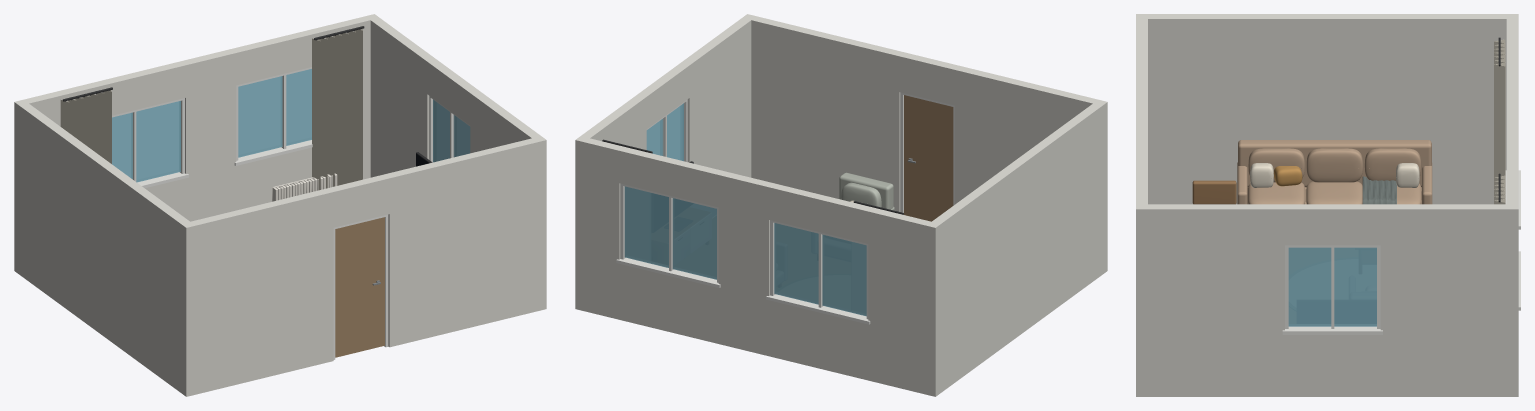
Rendered from oursv11b.glb.
3 renders of one model, left to right at view 1: azimuth 30°, elevation 25°; view 2: azimuth 150°, elevation 25°; view 3: azimuth 270°, elevation 25°, orthographic. The views are drawn at different scales.
Visible parts, largest first — view 1: wall|scenesmith_007__R00|0, wall|scenesmith_007__R00|2, wall|scenesmith_007__R00|1, wall|scenesmith_007__R00|3, Gathered curtain, wall|scenesmith_007__R00|1 Window 0 | glazing, wall|scenesmith_007__R00|0 Door 0 | wood leaf, wall|scenesmith_007__R00|1 Window 0 | jamb, wall|scenesmith_007__R00|3 Window 0 | glazing, wall|scenesmith_007__R00|0 Door 0 | jamb, Door panel, wall|scenesmith_007__R00|3 Window 0 | jamb; view 2: wall|scenesmith_007__R00|1, wall|scenesmith_007__R00|0, wall|scenesmith_007__R00|2, wall|scenesmith_007__R00|3, wall|scenesmith_007__R00|1 Window 0 | glazing, wall|scenesmith_007__R00|0 Door 0 | wood leaf, wall|scenesmith_007__R00|1 Window 0 | jamb, Back upholstered shell.001, wall|scenesmith_007__R00|3 Window 0 | glazing, wall|scenesmith_007__R00|0 Door 0 | jamb, wall|scenesmith_007__R00|3 Window 0 | jamb; view 3: wall|scenesmith_007__R00|3, wall|scenesmith_007__R00|2, Back upholstered shell, wall|scenesmith_007__R00|3 Window 0 | glazing, wall|scenesmith_007__R00|1, wall|scenesmith_007__R00|0, wall|scenesmith_007__R00|3 Window 0 | jamb, Gathered curtain, V2 Accent scatter pillow, Backrest, V2 softly draped sofa throw, V2 accent lumbar cushion (+1 smaller).
Part boxes in pixels (box(x1,y1,x2,y2)): wall|scenesmith_007__R00|0: box(181, 136, 545, 394); wall|scenesmith_007__R00|2: box(15, 99, 195, 396); wall|scenesmith_007__R00|1: box(14, 16, 370, 274); wall|scenesmith_007__R00|3: box(365, 14, 546, 311); Gathered curtain: box(60, 29, 362, 190); wall|scenesmith_007__R00|1 Window 0 | glazing: box(112, 69, 311, 182); wall|scenesmith_007__R00|0 Door 0 | wood leaf: box(335, 217, 384, 357); wall|scenesmith_007__R00|1 Window 0 | jamb: box(112, 67, 312, 188); wall|scenesmith_007__R00|3 Window 0 | glazing: box(433, 99, 470, 162); wall|scenesmith_007__R00|0 Door 0 | jamb: box(333, 214, 388, 359); Door panel: box(272, 173, 337, 201); wall|scenesmith_007__R00|3 Window 0 | jamb: box(429, 96, 470, 162); wall|scenesmith_007__R00|1: box(584, 138, 940, 396); wall|scenesmith_007__R00|0: box(742, 14, 1106, 211); wall|scenesmith_007__R00|2: box(926, 102, 1107, 396); wall|scenesmith_007__R00|3: box(575, 18, 751, 311); wall|scenesmith_007__R00|1 Window 0 | glazing: box(624, 186, 866, 316); wall|scenesmith_007__R00|0 Door 0 | wood leaf: box(904, 95, 953, 221); wall|scenesmith_007__R00|1 Window 0 | jamb: box(616, 183, 870, 324); Back upholstered shell.001: box(839, 172, 894, 210); wall|scenesmith_007__R00|3 Window 0 | glazing: box(646, 103, 683, 161); wall|scenesmith_007__R00|0 Door 0 | jamb: box(900, 92, 954, 212); wall|scenesmith_007__R00|3 Window 0 | jamb: box(646, 99, 687, 161); wall|scenesmith_007__R00|3: box(1148, 204, 1518, 396); wall|scenesmith_007__R00|2: box(1148, 14, 1518, 204); Back upholstered shell: box(1237, 140, 1432, 204); wall|scenesmith_007__R00|3 Window 0 | glazing: box(1288, 247, 1376, 326); wall|scenesmith_007__R00|1: box(1506, 19, 1518, 396); wall|scenesmith_007__R00|0: box(1136, 14, 1147, 396); wall|scenesmith_007__R00|3 Window 0 | jamb: box(1282, 245, 1382, 334); Gathered curtain: box(1494, 39, 1505, 204); V2 Accent scatter pillow: box(1250, 163, 1419, 187); Backrest: box(1192, 180, 1236, 204); V2 softly draped sofa throw: box(1362, 176, 1396, 204); V2 accent lumbar cushion: box(1273, 166, 1302, 186).
Size of the model in its own units: 5.83 by 2.61 by 4.83.
